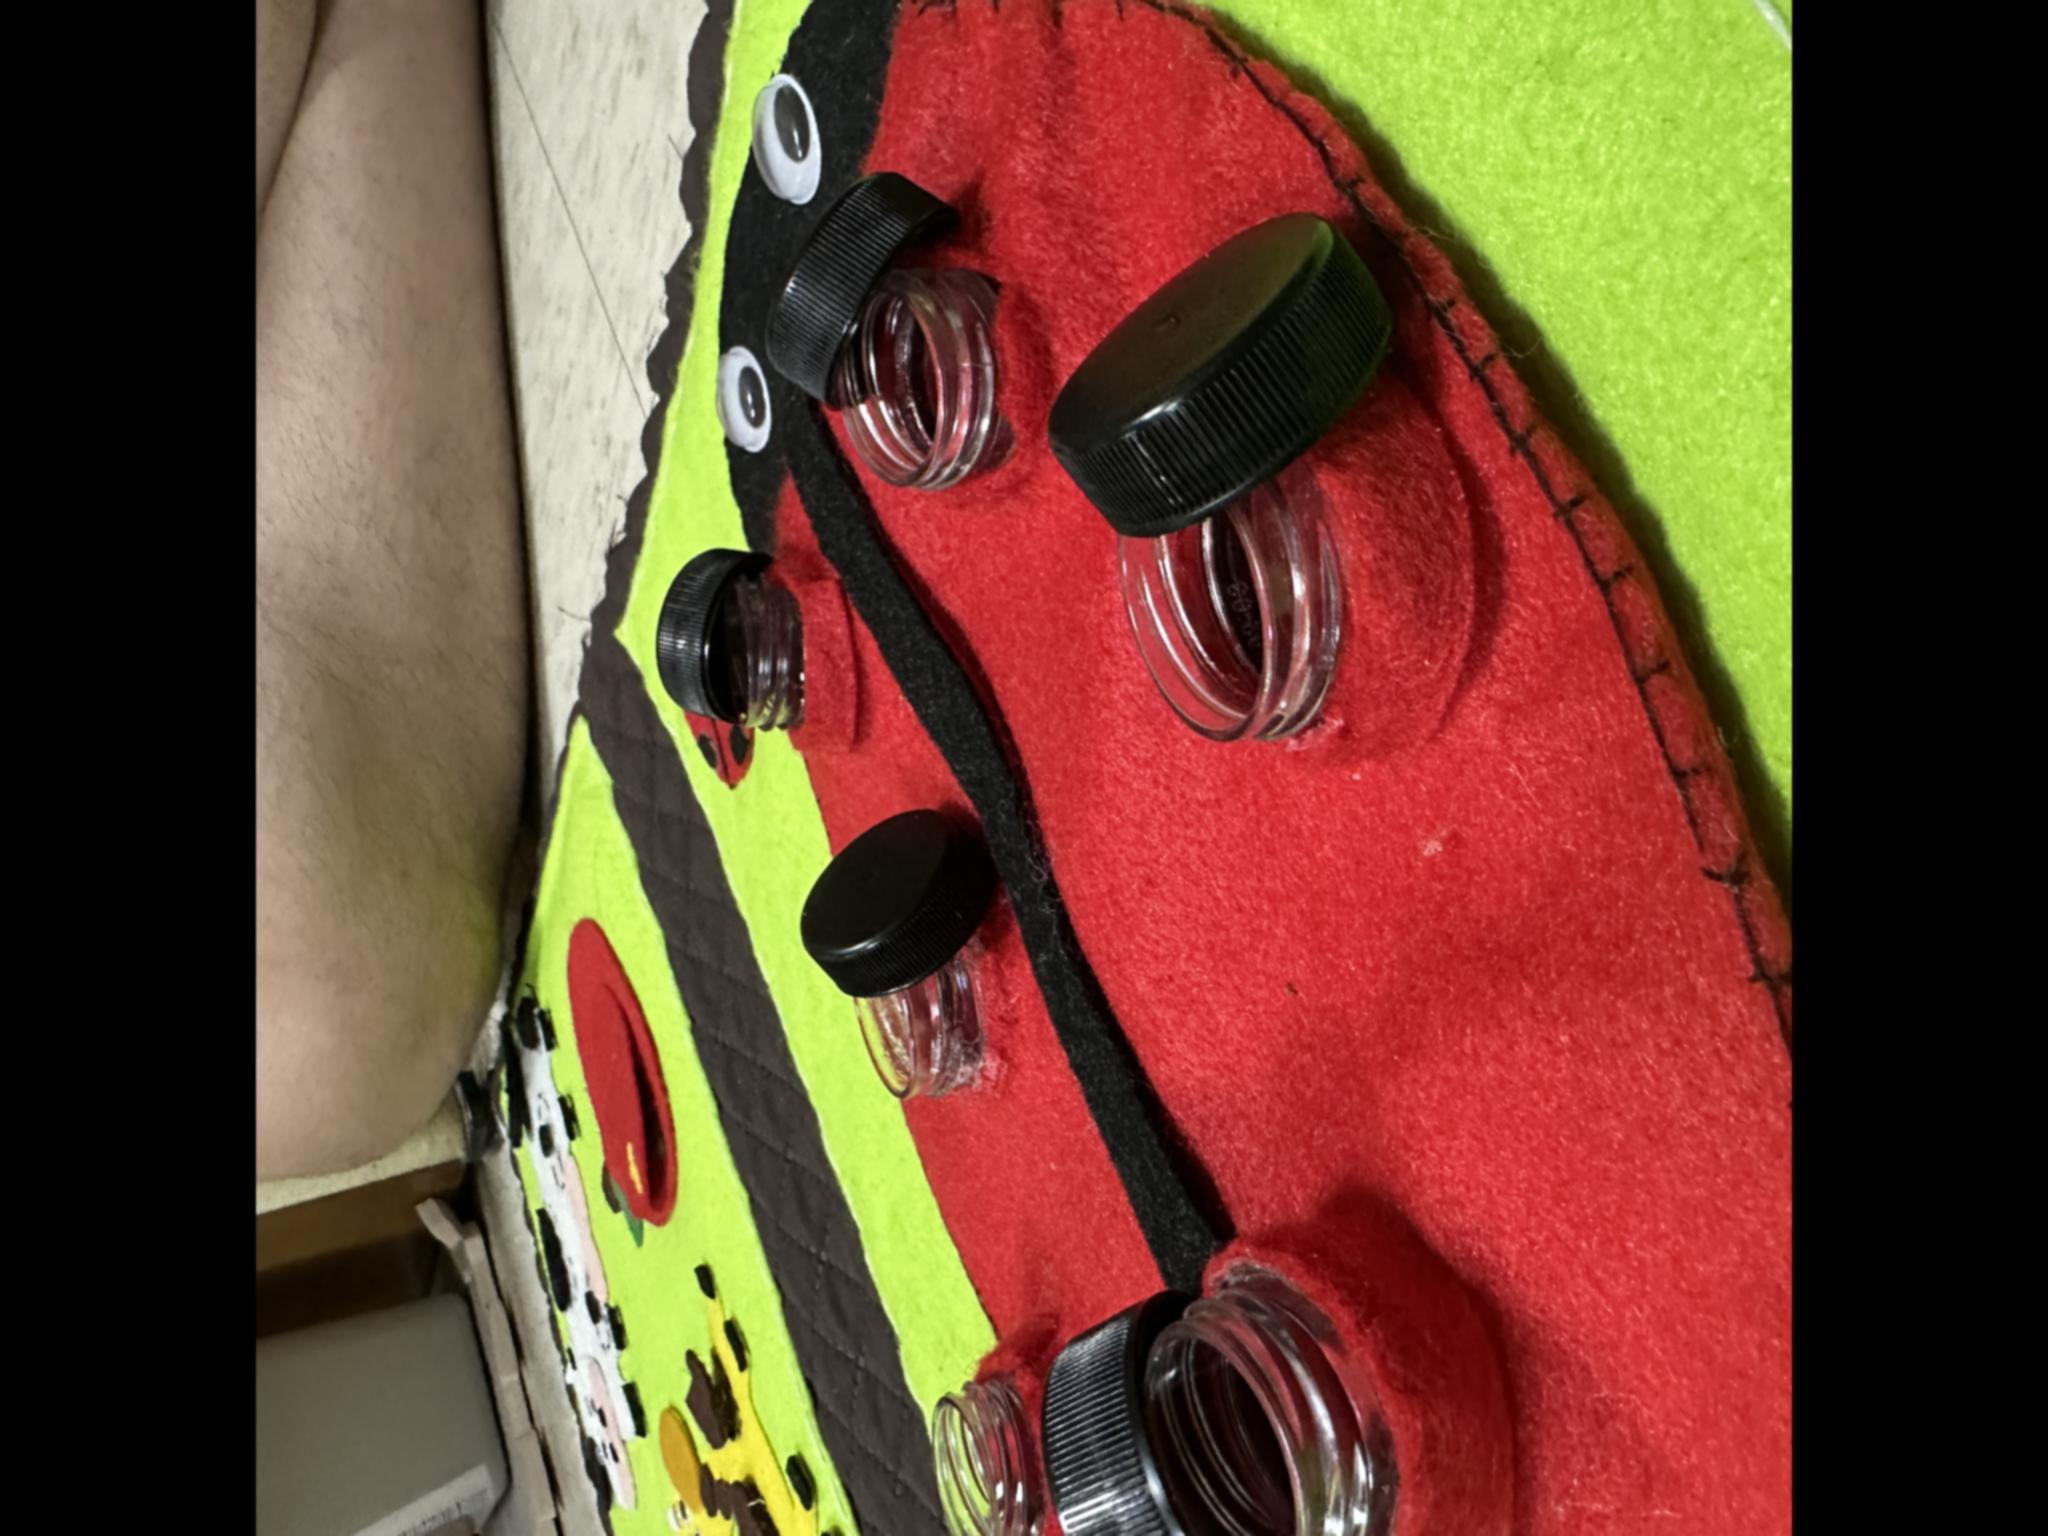cap_ng: (1027, 190, 1509, 836), (1030, 1215, 1535, 1536), (755, 160, 1018, 520), (648, 531, 863, 771)
